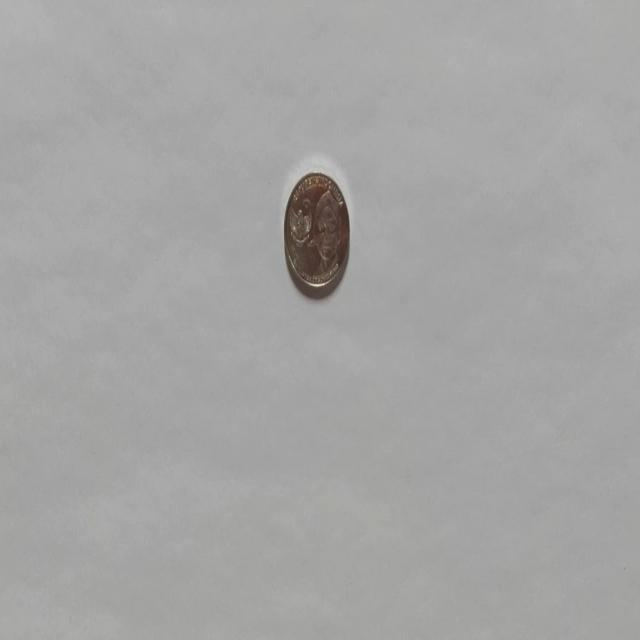dua ratus rupiah: (283, 168, 350, 297)
